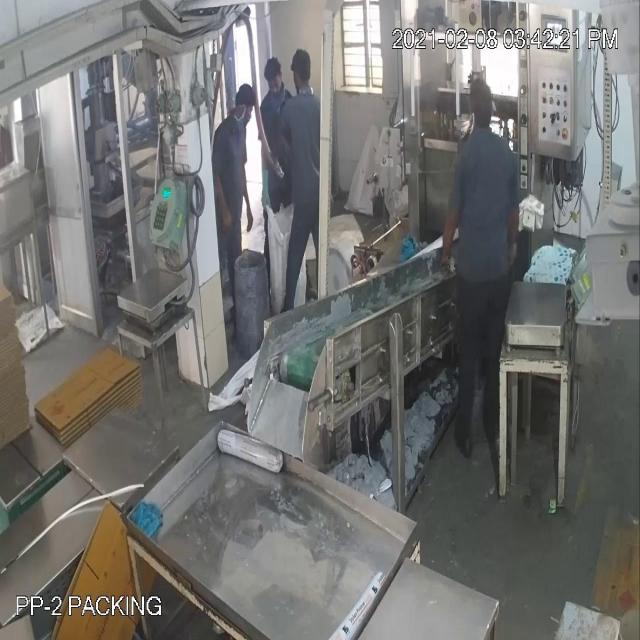No_Gloves: (436, 199, 468, 275)
